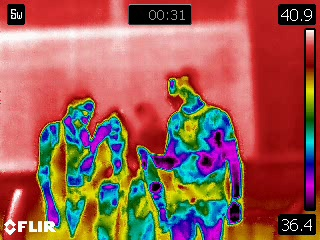human: (143, 69, 246, 240), (36, 89, 100, 240), (94, 107, 159, 240)
